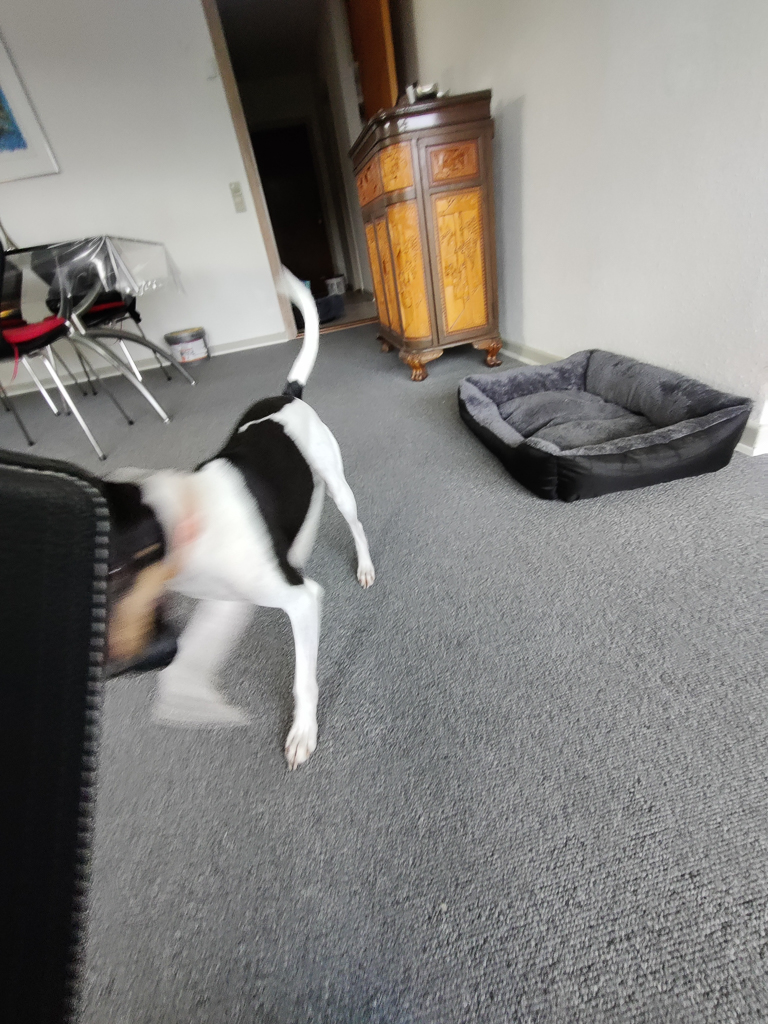Dog: (67, 247, 415, 782)
